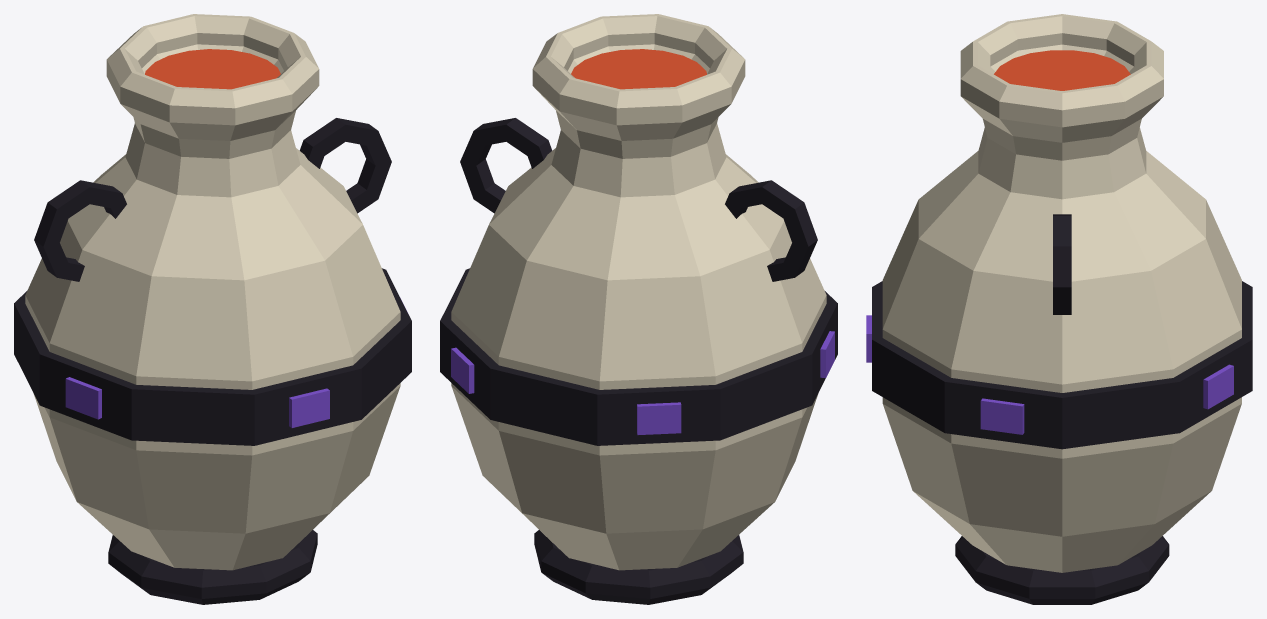
The model's file is destructible_urn.obj.
The picture shows the model from 3 angles, left to right: view 1: azimuth 30°, elevation 25°; view 2: azimuth 150°, elevation 25°; view 3: azimuth 270°, elevation 25°; orthographic projection.
Parts seen in each view (by area): view 1: destructible_urn; view 2: destructible_urn; view 3: destructible_urn.
Part boxes in pixels (box(x1,y1,x2,y2)): destructible_urn: box(14, 14, 411, 604); destructible_urn: box(440, 14, 837, 604); destructible_urn: box(866, 14, 1252, 604).
Bounding box in the file's own units: 0.64 × 0.9 × 0.6139.
